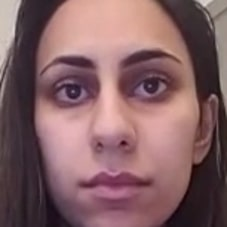awake: (39, 41, 189, 213)
